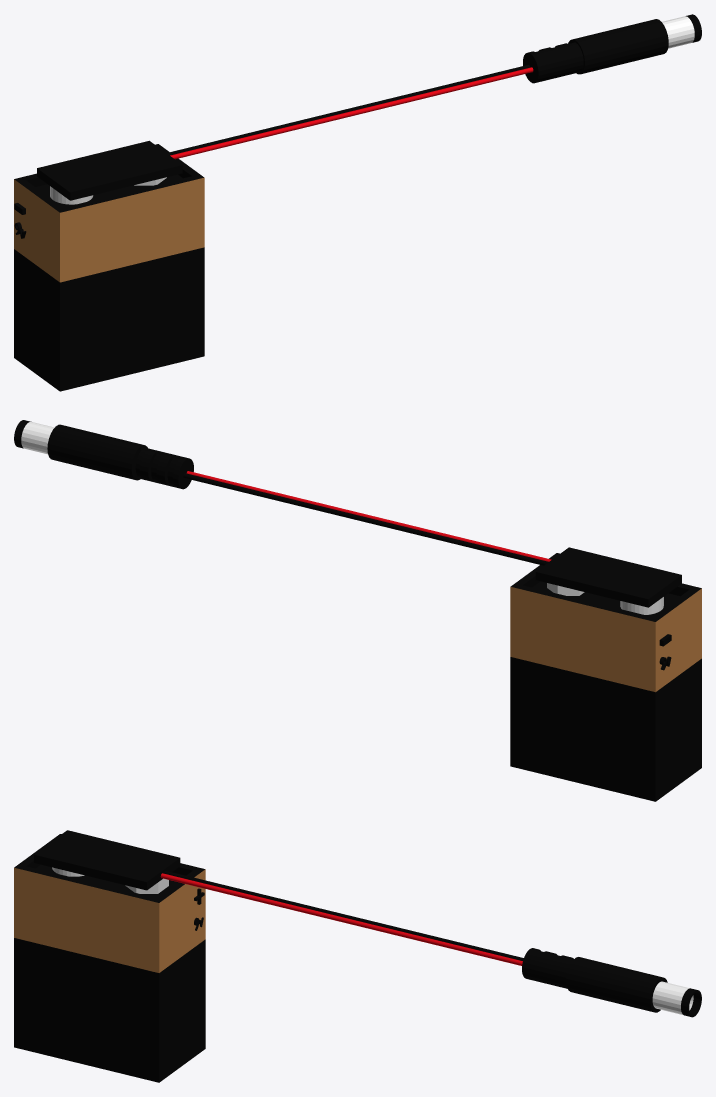
File: 9V BATTERY.fbx
The picture shows the model from 3 angles, top to bottom: view 1: azimuth 30°, elevation 25°; view 2: azimuth 150°, elevation 25°; view 3: azimuth 330°, elevation 25°; orthographic projection.
Parts seen in each view (by area): view 1: Cube, Cylinder.002, Plane, BézierCurve.001, BézierCurve; view 2: Cube, Cylinder.002, Plane, BézierCurve, BézierCurve.001; view 3: Cube, Cylinder.002, Plane, BézierCurve.001, BézierCurve.
Boxes of the visible parts, x1,y1,x2,y2 form: Cube: [14, 144, 204, 391]; Cylinder.002: [523, 14, 701, 83]; Plane: [37, 140, 182, 200]; BézierCurve.001: [170, 67, 533, 159]; BézierCurve: [166, 65, 530, 155]; Cube: [510, 553, 701, 801]; Cylinder.002: [14, 420, 193, 489]; Plane: [535, 547, 681, 607]; BézierCurve: [183, 473, 548, 565]; BézierCurve.001: [186, 471, 551, 561]; Cube: [14, 834, 205, 1082]; Cylinder.002: [522, 948, 701, 1017]; Plane: [34, 830, 180, 890]; BézierCurve.001: [160, 873, 522, 965]; BézierCurve: [164, 871, 523, 960].
Bounding box in the file's own units: 614 × 182 × 74.23.
